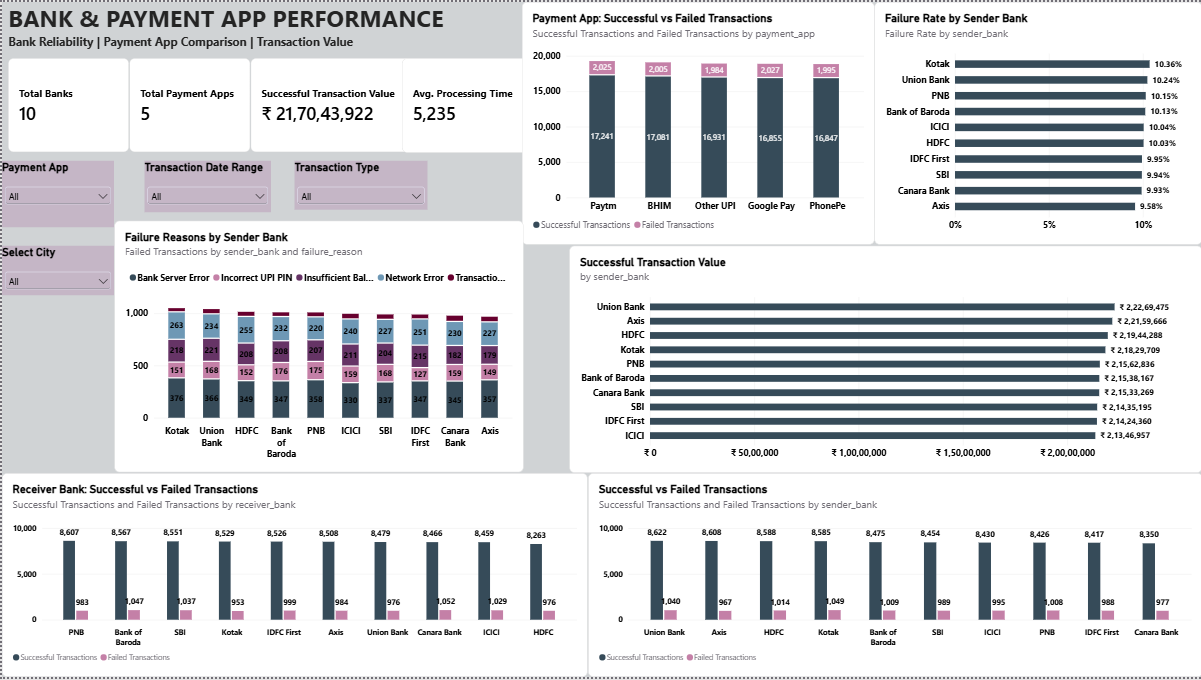

This screenshot's page, from the dashboard's own definition file:
{"tool":"powerbi","page":{"name":"Bank & Payment App Performance","canvas":[1920,1080],"ordinal":3},"visuals":[{"type":"textbox","box":[10.9,0,787.2,90.5],"z":0},{"type":"cardVisual","fields":{"Data":["upi_transactions.Total Banks"]},"box":[10,90,193.6,150.2],"z":1000},{"type":"cardVisual","fields":{"Data":["upi_transactions.Total Payment Apps"]},"box":[204,90,193.6,150.2],"z":2000},{"type":"cardVisual","fields":{"Data":["upi_transactions.Successful Transaction Value"]},"box":[398,90,255.2,150.2],"z":3000},{"type":"cardVisual","fields":{"Data":["upi_transactions.Average Processing Time"]},"box":[640,89.6,212.7,151.1],"z":4000},{"type":"clusteredColumnChart","title":"Successful vs Failed Transactions","fields":{"Category":["upi_transactions.sender_bank"],"Y":["upi_transactions.Successful Transactions","upi_transactions.Failed Transactions"]},"box":[937,753.4,983,325.6],"z":5000},{"type":"clusteredColumnChart","title":"Receiver Bank: Successful vs Failed Transactions","fields":{"Category":["upi_transactions.receiver_bank"],"Y":["upi_transactions.Successful Transactions","upi_transactions.Failed Transactions"]},"box":[0,753.8,937,325.6],"z":6000},{"type":"clusteredBarChart","title":"Failure Rate by Sender Bank","fields":{"Category":["upi_transactions.sender_bank"],"Y":["upi_transactions.Failure Rate"]},"box":[1395.7,0,524.3,388.1],"z":7000},{"type":"columnChart","title":"Payment App: Successful vs Failed Transactions","fields":{"Category":["upi_transactions.payment_app"],"Y":["upi_transactions.Successful Transactions","upi_transactions.Failed Transactions"]},"box":[832.7,0,564,388],"z":8000},{"type":"clusteredBarChart","fields":{"Category":["upi_transactions.sender_bank"],"Y":["upi_transactions.Successful Transaction Value"]},"box":[907.8,390.3,1012.2,363.1],"z":9000},{"type":"columnChart","title":"Failure Reasons by Sender Bank","fields":{"Category":["upi_transactions.sender_bank"],"Series":["upi_transactions.failure_reason"],"Y":["upi_transactions.Failed Transactions"]},"box":[179.5,350.6,654,402],"z":10000},{"type":"slicer","title":"Payment App","fields":{"Values":["upi_transactions.payment_app"]},"box":[0,254.7,179.1,106.4],"z":10001},{"type":"slicer","title":"Transaction Date Range","fields":{"Values":["upi_transactions.transaction_date"]},"box":[227.5,253.5,202.5,82.5],"z":10002},{"type":"slicer","title":"Select City","fields":{"Values":["upi_transactions.city"]},"box":[0,390,179.5,79.3],"z":10003},{"type":"slicer","title":"Transaction Type","fields":{"Values":["upi_transactions.transaction_type"]},"box":[467.5,253.5,212.7,78.4],"z":10004}]}

Visuals, with their boxes in screenshot pixels (x1, y1, x2, y2), scaled from the page's 1920x1080 canvas onto the 1201x680 screenshot:
textbox: 7, 0, 499, 57
cardVisual - upi_transactions.Total Banks: 6, 57, 127, 151
cardVisual - upi_transactions.Total Payment Apps: 128, 57, 249, 151
cardVisual - upi_transactions.Successful Transaction Value: 249, 57, 409, 151
cardVisual - upi_transactions.Average Processing Time: 400, 56, 533, 152
"Successful vs Failed Transactions" clusteredColumnChart: 586, 474, 1200, 679
"Receiver Bank: Successful vs Failed Transactions" clusteredColumnChart: 0, 475, 586, 679
"Failure Rate by Sender Bank" clusteredBarChart: 873, 0, 1200, 244
"Payment App: Successful vs Failed Transactions" columnChart: 521, 0, 874, 244
clusteredBarChart - upi_transactions.sender_bank x upi_transactions.Successful Transaction Value: 568, 246, 1200, 474
"Failure Reasons by Sender Bank" columnChart: 112, 221, 521, 474
"Payment App" slicer: 0, 160, 112, 227
"Transaction Date Range" slicer: 142, 160, 269, 212
"Select City" slicer: 0, 246, 112, 295
"Transaction Type" slicer: 292, 160, 425, 209
